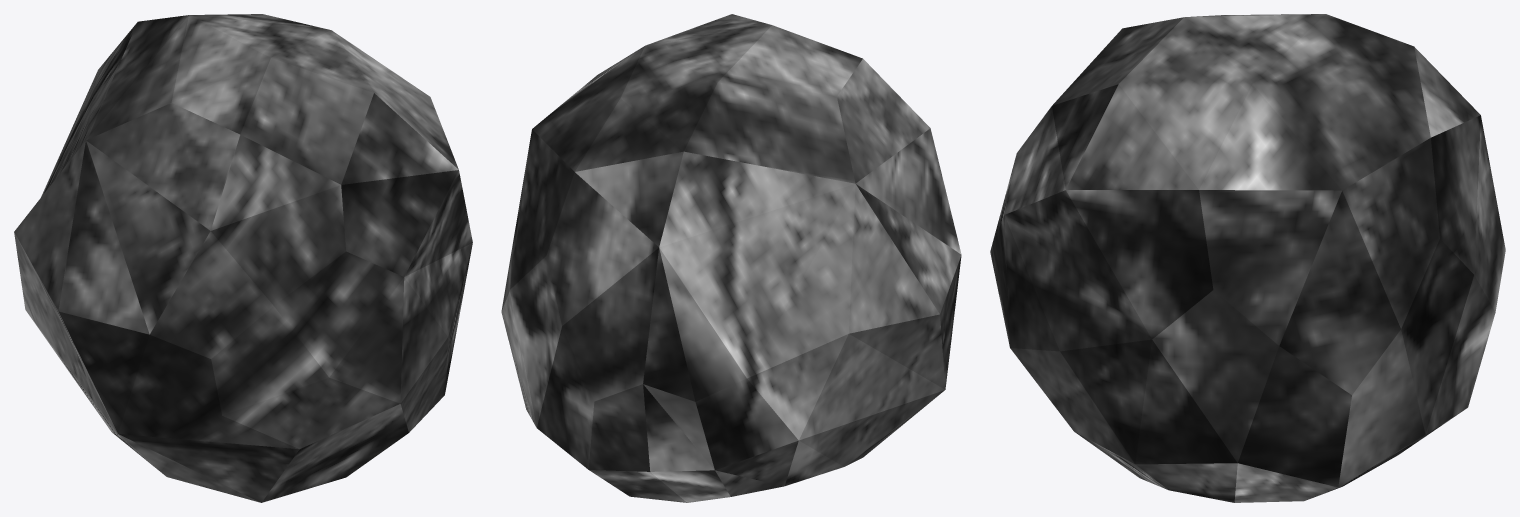
Rendered from yunshi02.FBX.
3 renders of one model, left to right at view 1: azimuth 30°, elevation 25°; view 2: azimuth 150°, elevation 25°; view 3: azimuth 270°, elevation 25°, orthographic. The views are drawn at different scales.
Parts seen in each view (by area): view 1: GeoSphere001; view 2: GeoSphere001; view 3: GeoSphere001.
Boxes of the visible parts, x1=… form: GeoSphere001: x1=14, y1=14, x2=472, y2=502; GeoSphere001: x1=501, y1=14, x2=961, y2=502; GeoSphere001: x1=990, y1=14, x2=1505, y2=502.
Size of the model in its own units: 19.57 by 21.17 by 21.48.
